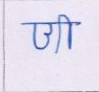i_matra: (59, 13, 75, 50)
